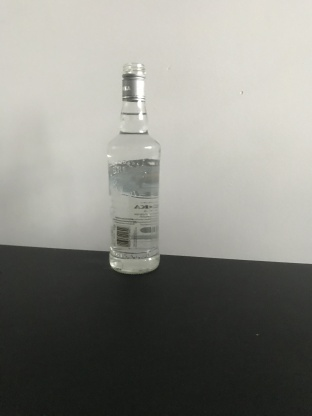nakretka: (120, 60, 147, 102)
